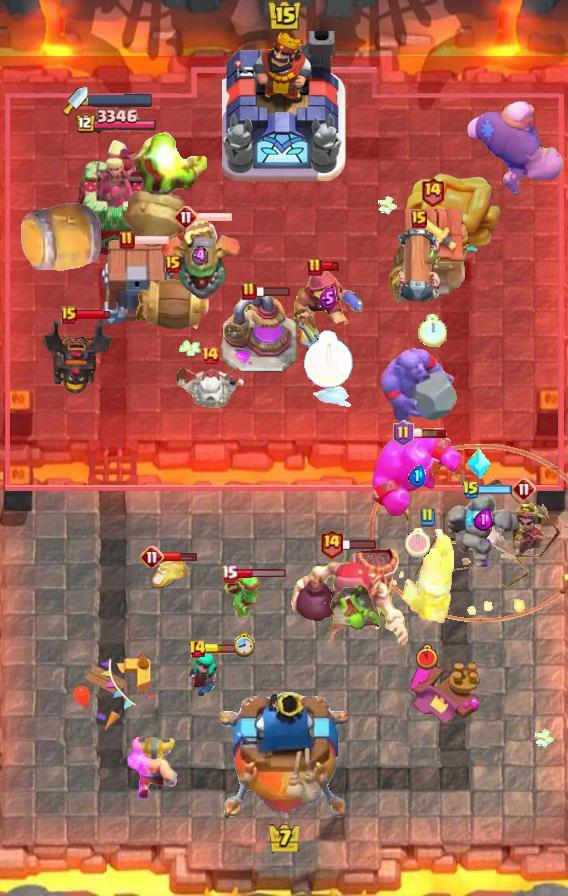archer-evolution: (41, 314, 115, 396)
archer-queen: (381, 345, 459, 425)
balloon: (464, 99, 566, 199)
bar: (70, 138, 158, 256)
bar-level: (328, 582, 386, 630)
battle-healer: (395, 228, 443, 308)
bomb: (98, 240, 176, 326)
bomber-evolution: (502, 502, 545, 558)
clone: (371, 429, 463, 519)
dirt: (20, 201, 104, 275)
electro-giant: (289, 540, 409, 650)
electro-spirit: (475, 508, 494, 532), (319, 286, 337, 310), (408, 465, 426, 487), (193, 245, 208, 267)
elixir: (303, 331, 354, 390), (417, 314, 446, 347), (405, 528, 430, 557), (232, 631, 255, 657), (416, 644, 438, 670)
emote: (237, 568, 288, 580), (196, 211, 233, 223), (134, 234, 171, 246), (255, 285, 291, 297), (75, 309, 111, 321), (411, 427, 447, 439), (341, 538, 377, 550), (478, 484, 513, 496), (162, 551, 198, 562), (204, 644, 240, 654), (320, 260, 340, 272)
fireball: (291, 269, 365, 350)
firecracker: (399, 529, 455, 626)
giant-snowball: (222, 571, 264, 619)
goblin-giant: (127, 734, 178, 800)
guard: (370, 444, 568, 623)
ice-spirit-evolution: (151, 559, 189, 589)
king-tower: (222, 31, 346, 181), (219, 692, 349, 826)
king-tower-bar: (88, 93, 152, 106)
mini-pekka: (173, 362, 247, 410)
night-witch: (156, 218, 242, 300)
pad_2: (466, 448, 492, 480)
pekka: (220, 292, 298, 374)
selected: (72, 109, 155, 135)
sparky: (389, 208, 475, 306)
text: (419, 177, 444, 208), (320, 529, 344, 560), (174, 205, 198, 229), (512, 477, 536, 501), (140, 545, 164, 569), (394, 420, 415, 446), (200, 345, 220, 365), (189, 639, 208, 659), (462, 480, 480, 500), (119, 230, 135, 250), (307, 257, 323, 277), (241, 281, 257, 301), (419, 507, 435, 527), (222, 565, 239, 583), (411, 210, 427, 228), (165, 255, 181, 273), (61, 306, 77, 324)
the-log: (133, 276, 213, 336)
valkyrie-evolution: (445, 495, 521, 573)
witch: (183, 649, 231, 699)
x-bow: (118, 108, 212, 252)
